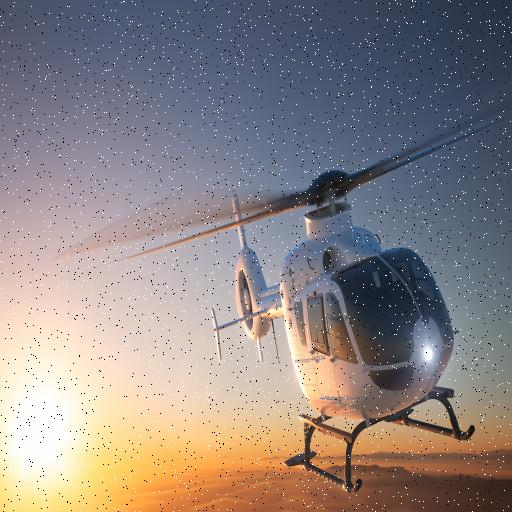helicopter: (68, 154, 481, 502)
